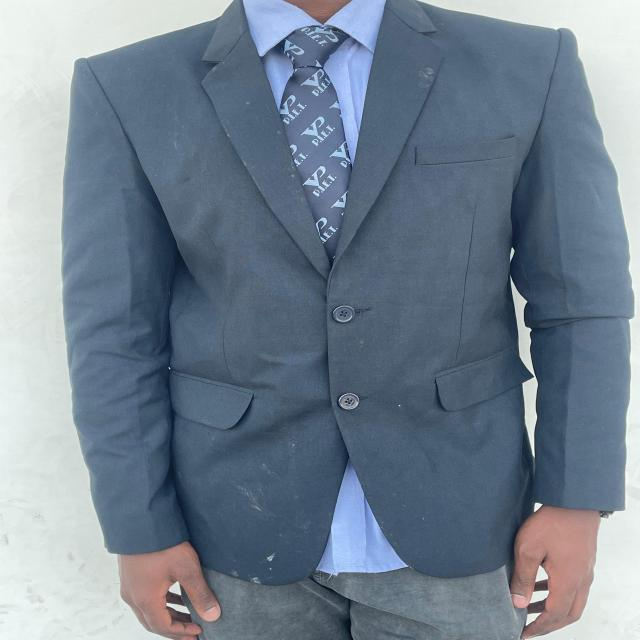Tie: (277, 24, 353, 262)
uniform: (60, 1, 634, 634)
